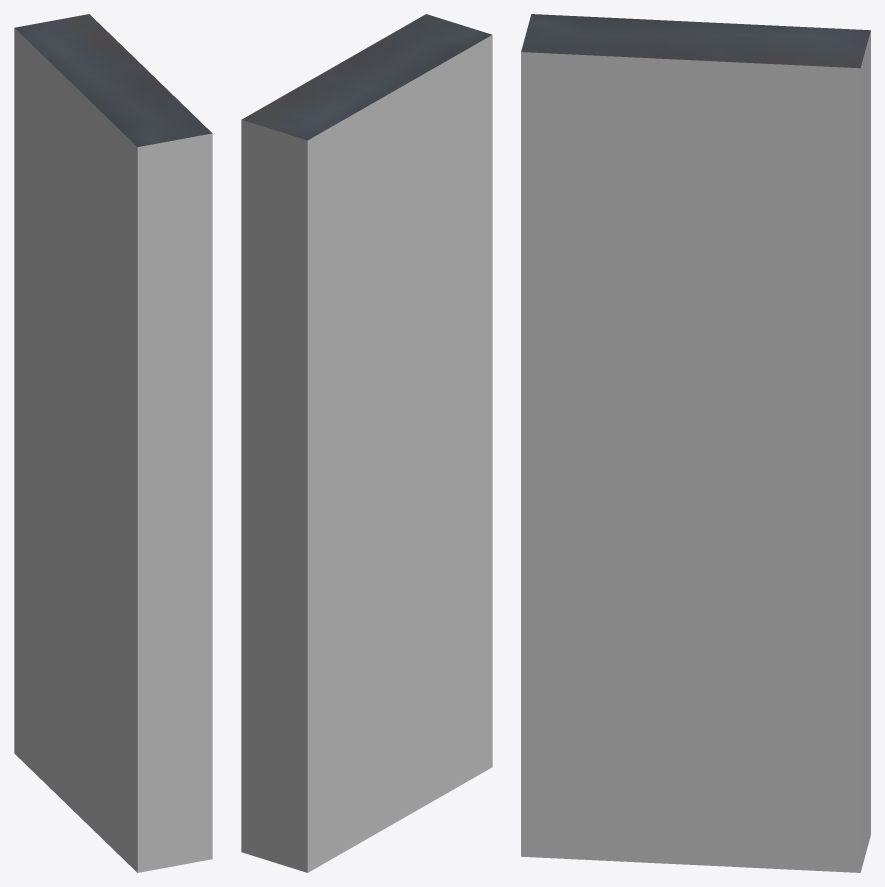
File: DEBW_0010007THZI.gltf
3 renders of one model, left to right at view 1: azimuth 30°, elevation 25°; view 2: azimuth 150°, elevation 25°; view 3: azimuth 270°, elevation 25°, orthographic. The views are drawn at different scales.
Visible parts, largest first — view 1: Z_UP; view 2: Z_UP; view 3: Z_UP.
Part boxes in pixels (<box>): Z_UP: <box>14,14,212,872</box>; Z_UP: <box>241,14,492,872</box>; Z_UP: <box>521,14,870,872</box>.
Bounding box in the file's own units: 1.74 × 12.03 × 4.74.
2 materials, 1 textured.
